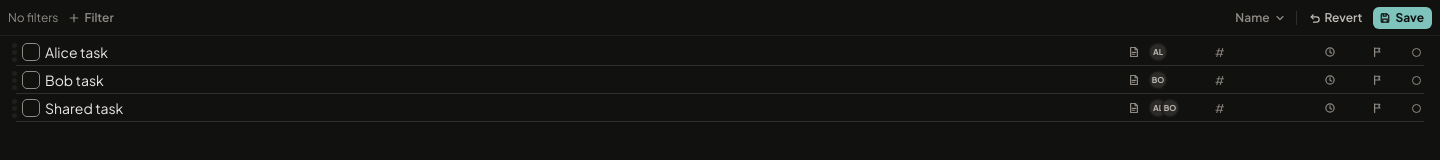
Test case: ListWidget › a list set to hide its filter line shows none — until it is unsaved, and again none once saved
The width and height of the screenshot is (1440, 160).
Expected: the element with test id "list-filter-row" is shown, [0, 0, 1439, 36]
Click the button with test id "save-list". click: point(1403, 18)
box: [1373, 6, 1432, 28]
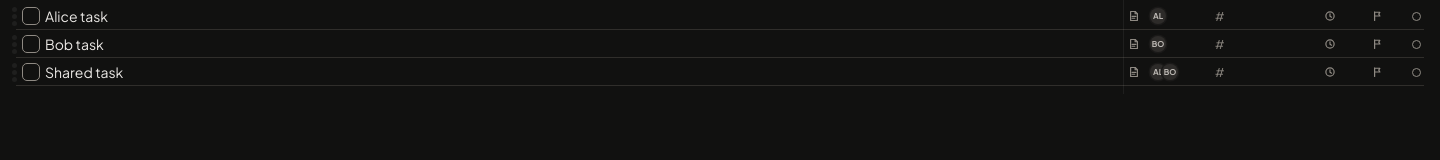
Expected: the element with test id "list-filter-row" is gone
